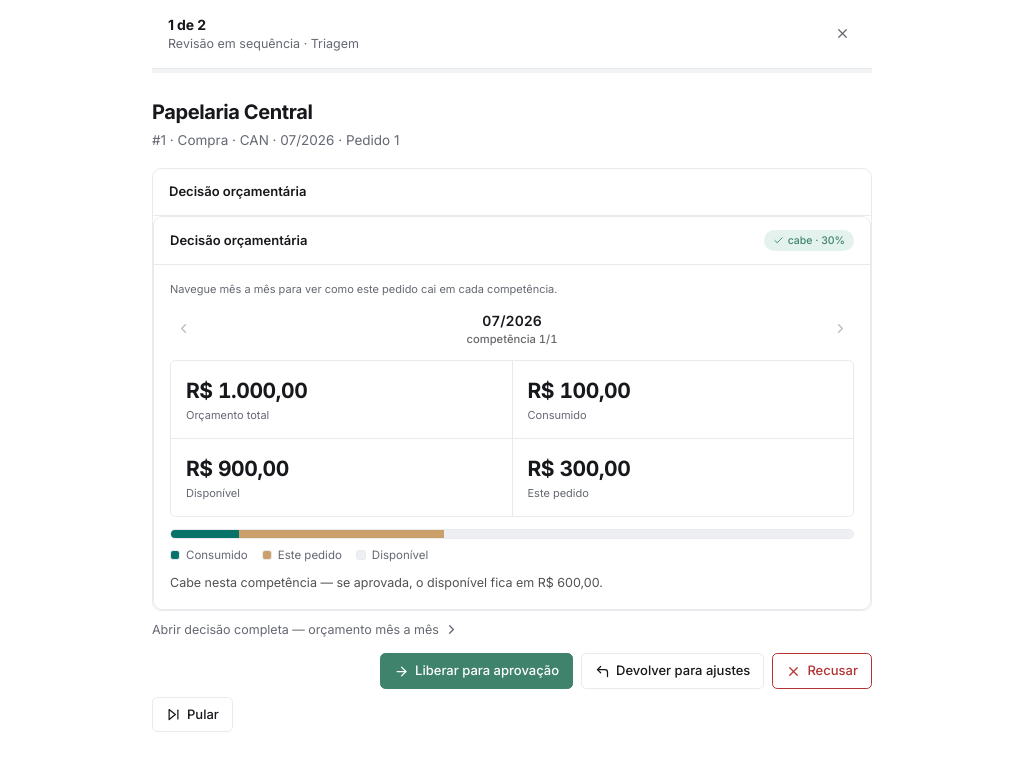
it: TriageSequence › percorre a fila: 1 de 2 → Liberar avança → Pular fecha com o resumo decidiu/pulou
Expected: the text "1 de 2" is shown, x1=168 y1=16 x2=206 y2=33
Expected: the heading "Papelaria Central" is shown, x1=152 y1=100 x2=312 y2=124
Click the button "Liberar para aprovação". click: [477, 671]
box: x1=380 y1=653 x2=573 y2=689
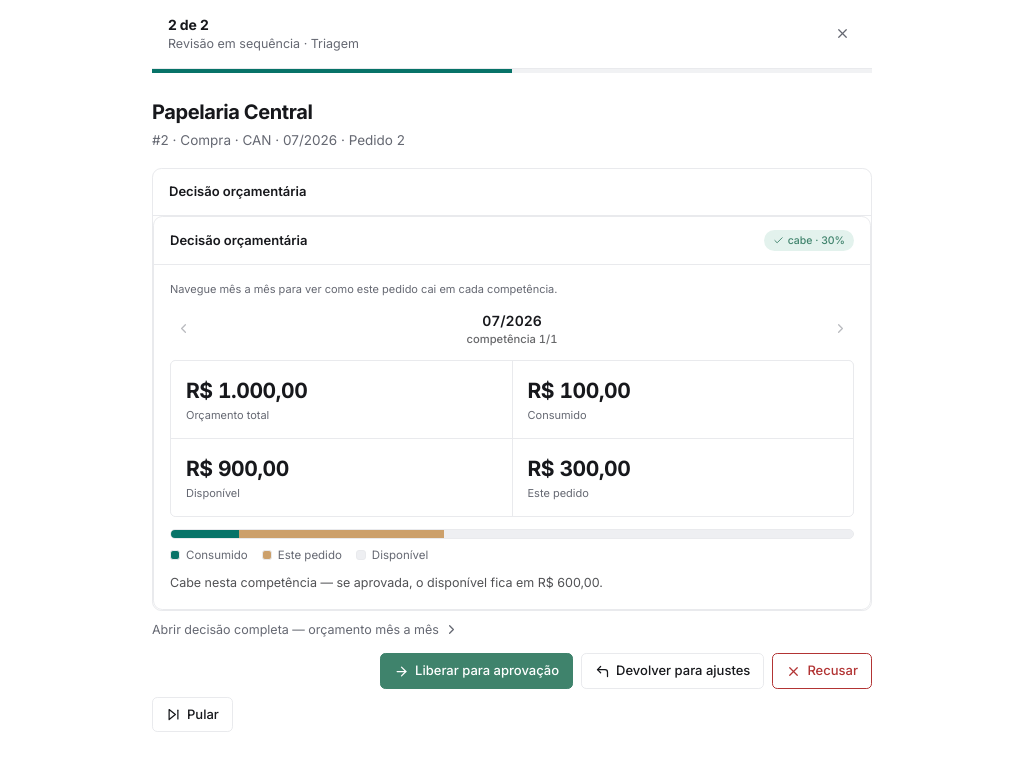
Result: the text "2 de 2" is shown at x1=168 y1=16 x2=209 y2=33
Click the button "Pular". click: [192, 715]
box: x1=152 y1=697 x2=233 y2=732
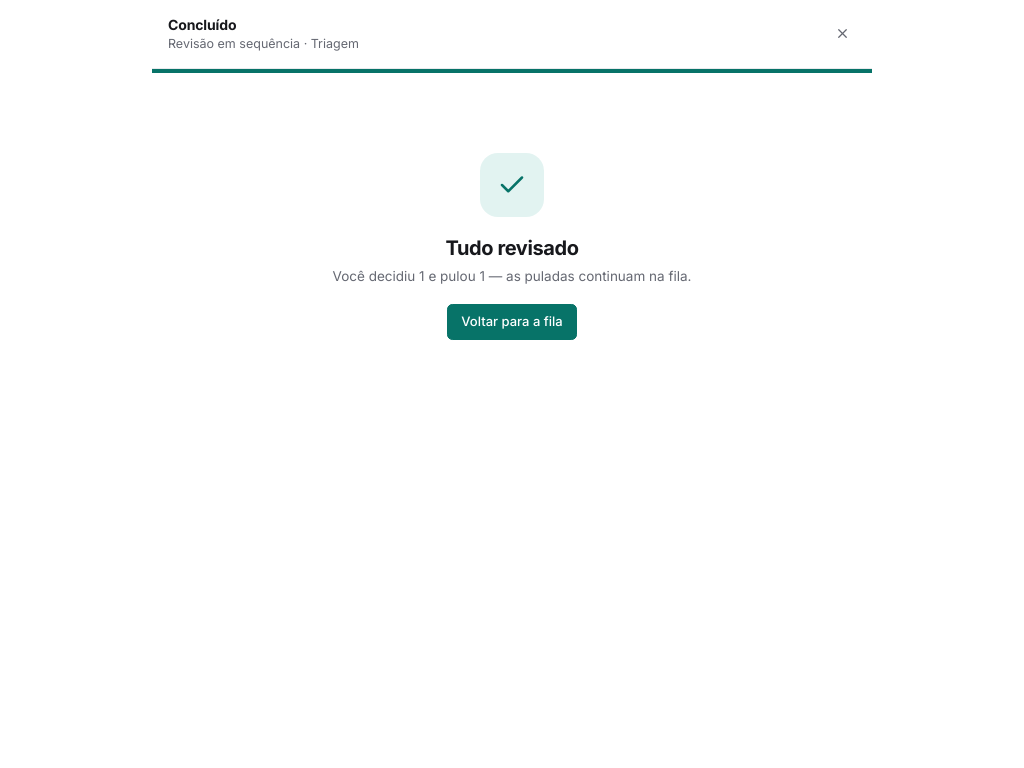
Result: the heading "Tudo revisado" is shown at x1=446 y1=236 x2=578 y2=260
Result: the text "Você decidiu 1 e pulou 1 — as puladas continuam na fila." is shown at x1=333 y1=268 x2=691 y2=284
